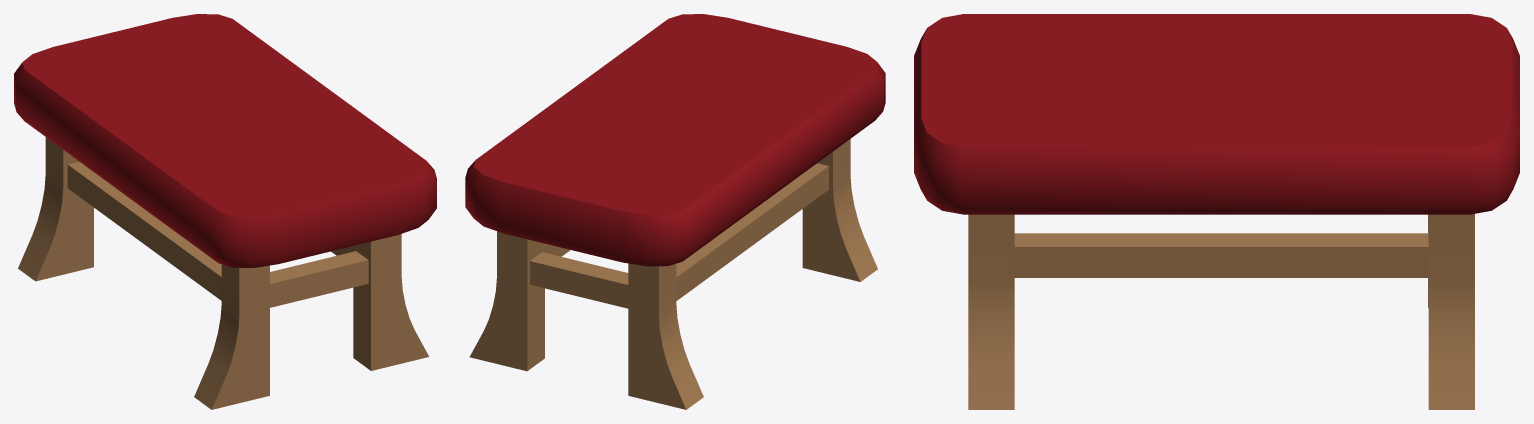
File: Environment_Bench.fbx
The picture shows the model from 3 angles, left to right: view 1: azimuth 30°, elevation 25°; view 2: azimuth 150°, elevation 25°; view 3: azimuth 270°, elevation 25°; orthographic projection. The views are drawn at different scales.
Visible parts, largest first — view 1: Environment_Bench; view 2: Environment_Bench; view 3: Environment_Bench.
Boxes of the visible parts, bbox=[...] form: Environment_Bench: bbox=[14, 14, 436, 409]; Environment_Bench: bbox=[465, 14, 885, 409]; Environment_Bench: bbox=[914, 14, 1519, 409].
Bounding box in the file's own units: 87.57 × 74.42 × 157.
